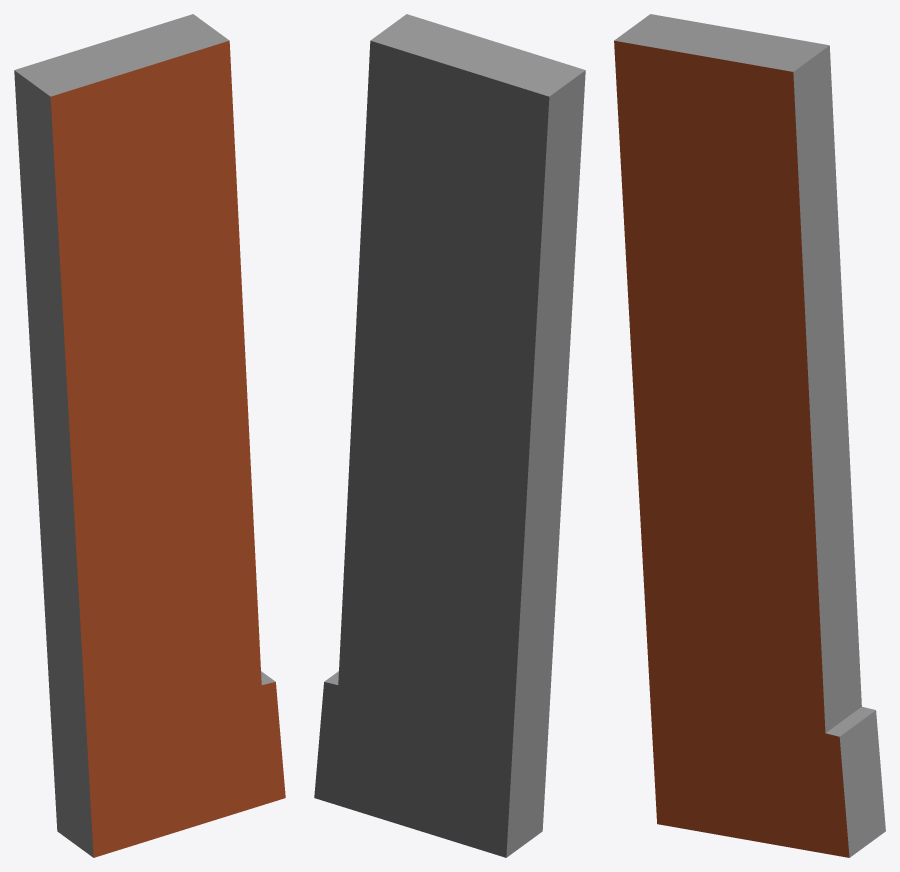
File: construction_0201_assumed_A_Casa_h6m.obj
3 views of the same model, side by side, from view 1: azimuth 30°, elevation 25°; view 2: azimuth 150°, elevation 25°; view 3: azimuth 330°, elevation 25° (orthographic).
Visible parts, largest first — view 1: construction_0201_assumed_A_Casa; view 2: construction_0201_assumed_A_Casa; view 3: construction_0201_assumed_A_Casa.
Boxes of the visible parts, x1,y1,x2,y2 form: construction_0201_assumed_A_Casa: (14, 14, 285, 857); construction_0201_assumed_A_Casa: (314, 14, 585, 857); construction_0201_assumed_A_Casa: (614, 14, 885, 857).
Size of the model in its own units: 22.4 by 71.37 by 6.
